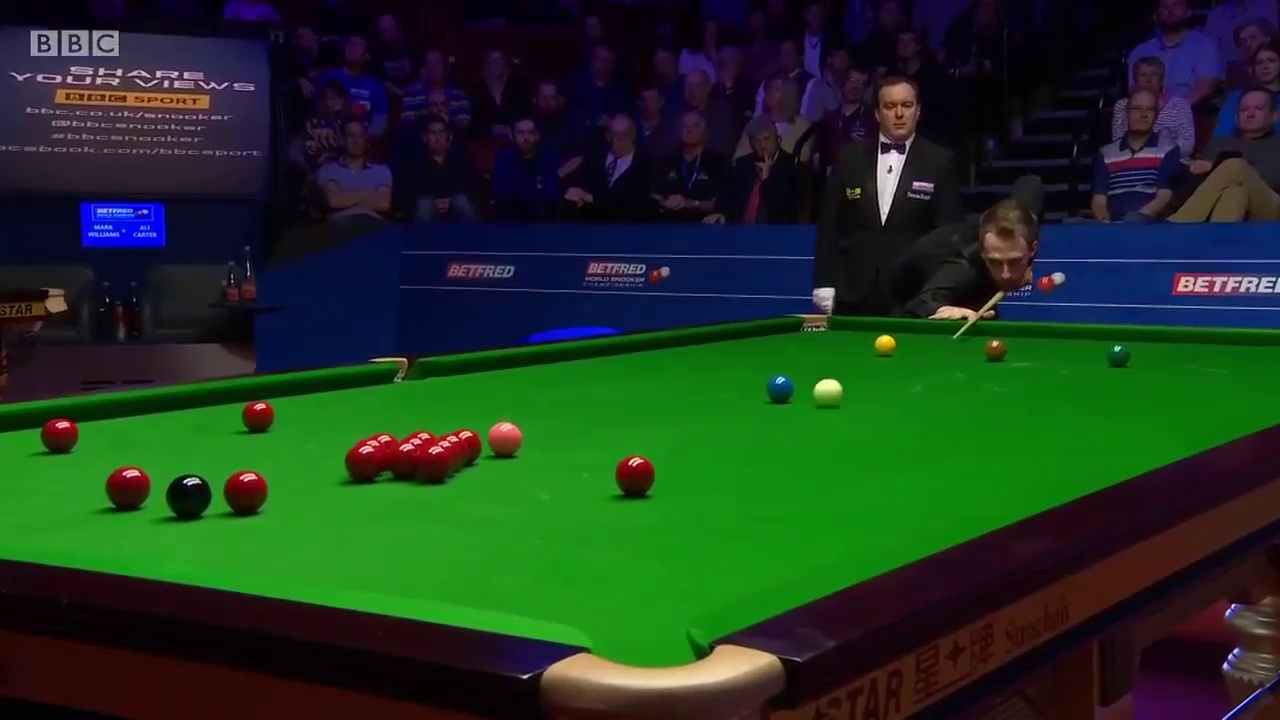black: (167, 475, 212, 521)
blue: (767, 375, 793, 403)
brown: (986, 338, 1007, 363)
green: (1107, 345, 1129, 366)
pink: (486, 421, 521, 458)
red: (103, 465, 154, 508), (224, 470, 264, 515), (614, 459, 656, 499), (343, 445, 384, 483), (415, 445, 450, 480), (41, 419, 77, 452), (241, 400, 274, 431)
white: (814, 382, 842, 406)
yellow: (873, 335, 897, 355)
